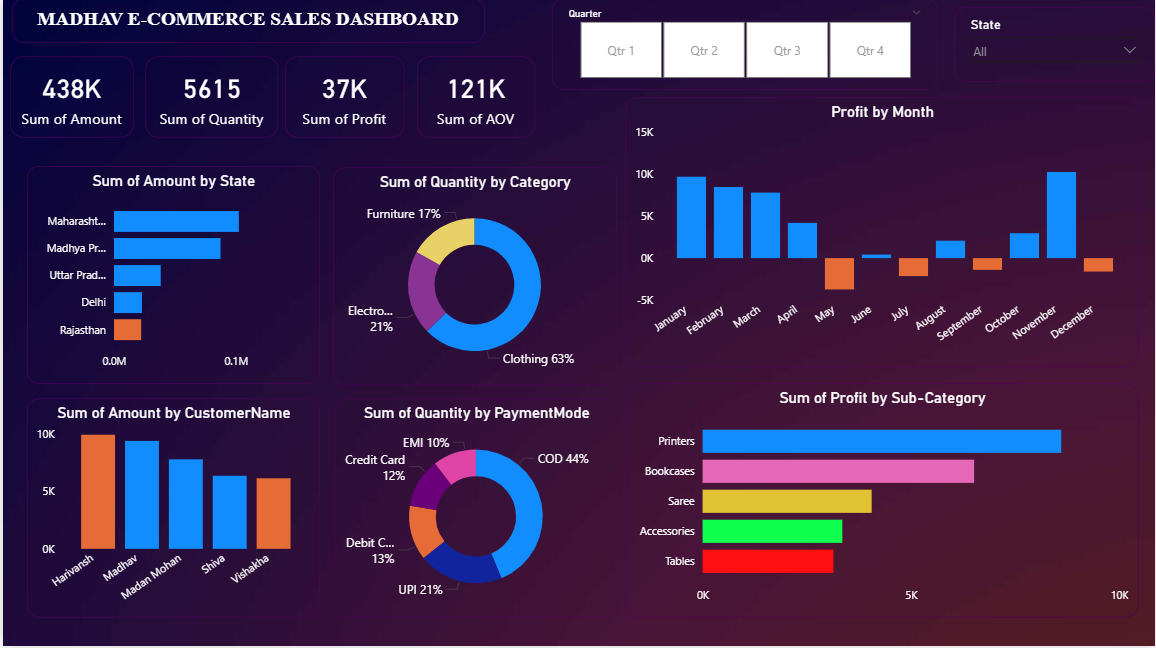

The dashboard page shown, as its layout file describes it:
{"tool":"powerbi","page":{"name":"Page 1","canvas":[1280,720],"ordinal":0},"visuals":[{"type":"textbox","box":[10,0,525,50],"z":0},{"type":"columnChart","title":"Profit by Month","fields":{"Category":["Orders.Order Date.Variation.Date Hierarchy.Month"],"Y":["Sum(Details.Profit)"]},"box":[691.7,110,570,300],"z":1000},{"type":"barChart","fields":{"Category":["Details.Sub-Category"],"Y":["Sum(Details.Profit)"]},"box":[691.7,428.3,570,260],"z":2000},{"type":"donutChart","fields":{"Category":["Details.Category"],"Y":["Sum(Details.Quantity)"]},"box":[366.7,188.3,315,241.7],"z":3000},{"type":"donutChart","fields":{"Y":["Sum(Details.Quantity)"],"Category":["Details.PaymentMode"]},"box":[368.3,445,315,243.3],"z":4000},{"type":"card","fields":{"Values":["Sum(Details.Amount)"]},"box":[8.9,64.4,136.7,90],"z":5000},{"type":"card","fields":{"Values":["Sum(Details.Quantity)"]},"box":[157.5,65,147.5,90],"z":6000},{"type":"card","fields":{"Values":["Sum(Details.Profit)"]},"box":[312.5,65,132.5,90],"z":7000},{"type":"card","fields":{"Values":["Sum(Details.AOV)"]},"box":[460,65,131.2,90],"z":8000},{"type":"barChart","fields":{"Category":["Orders.State"],"Y":["Sum(Details.Amount)"]},"box":[26.7,186.7,325,241.7],"z":8001},{"type":"columnChart","fields":{"Category":["Orders.CustomerName"],"Y":["Sum(Details.Amount)"]},"box":[26.7,445,325,243.3],"z":8002},{"type":"slicer","fields":{"Values":["Orders.Order Date.Variation.Date Hierarchy.Quarter"]},"box":[610,0,428.3,101.7],"z":8003},{"type":"slicer","fields":{"Values":["Orders.State"]},"box":[1056.7,10,223.3,83.3],"z":8004}]}

Visuals, with their boxes in screenshot pixels (x1, y1, x2, y2), scaled from the page's 1280x720 canvas onto the 1156x648 screenshot:
textbox: box(9, 0, 483, 45)
"Profit by Month" columnChart: box(625, 99, 1139, 369)
barChart - Details.Sub-Category x Sum(Details.Profit): box(625, 385, 1139, 619)
donutChart - Details.Category x Sum(Details.Quantity): box(331, 169, 616, 387)
donutChart - Sum(Details.Quantity) x Details.PaymentMode: box(333, 400, 617, 619)
card - Sum(Details.Amount): box(8, 58, 131, 139)
card - Sum(Details.Quantity): box(142, 58, 275, 140)
card - Sum(Details.Profit): box(282, 58, 402, 140)
card - Sum(Details.AOV): box(415, 58, 534, 140)
barChart - Orders.State x Sum(Details.Amount): box(24, 168, 318, 386)
columnChart - Orders.CustomerName x Sum(Details.Amount): box(24, 400, 318, 619)
slicer - Orders.Order Date.Variation.Date Hierarchy.Quarter: box(551, 0, 938, 92)
slicer - Orders.State: box(954, 9, 1155, 84)
